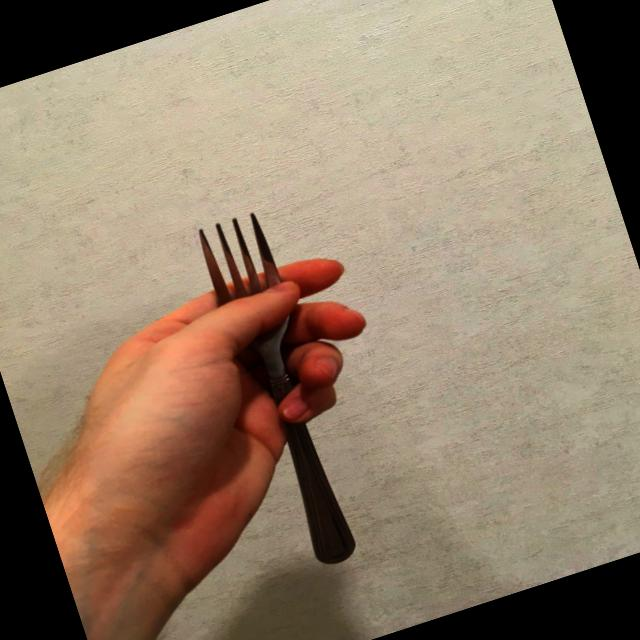fork: (190, 205, 372, 574)
